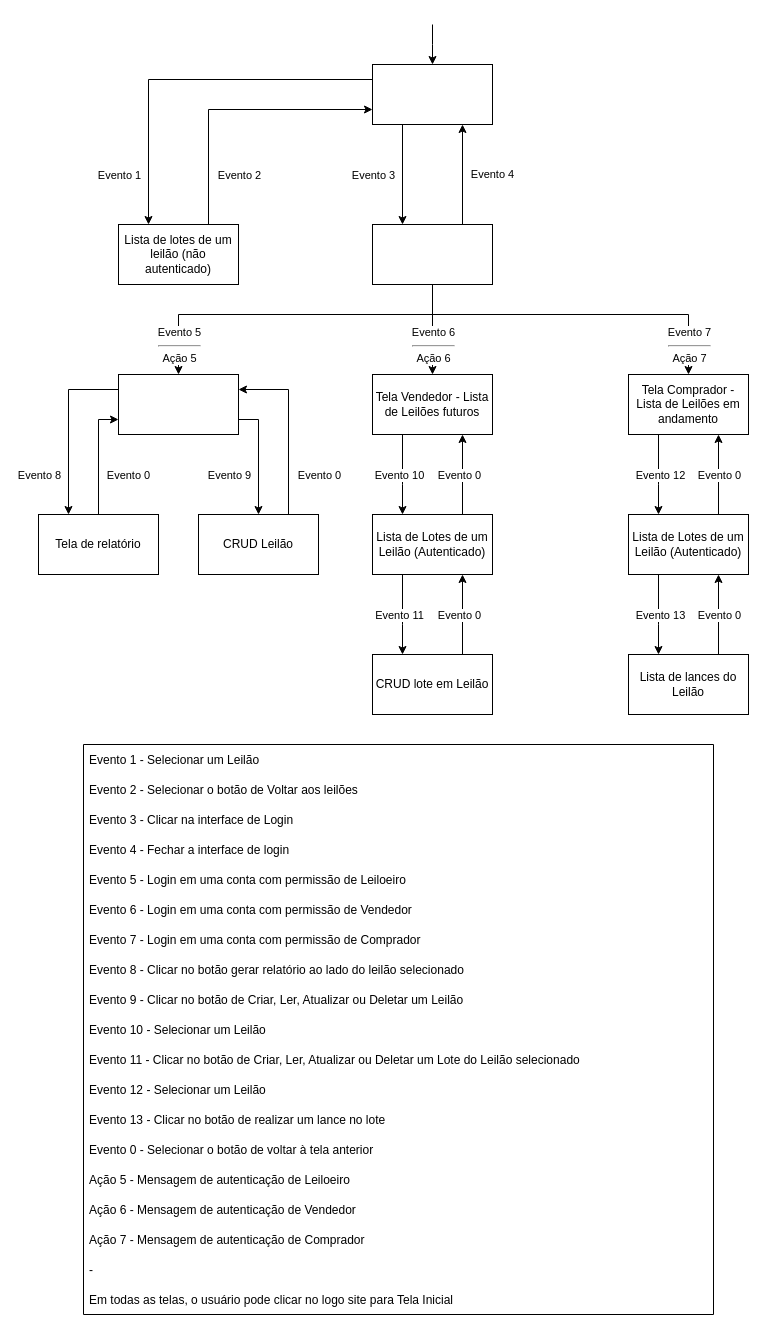
The diagram is 766 pixels wide and 1332 high, and some of its shapes have lost their labels. The centre of each missing label's shape, as x and y in pixels:
"Interface de Login dos usuários" belongs at (x=432, y=254).
"Tela Inicial" belongs at (x=432, y=94).
"Tela Leiloeiro - Lista de Leilões" belongs at (x=178, y=404).
